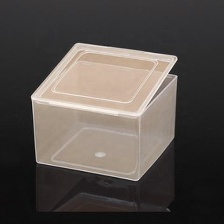plastic_box: (23, 35, 188, 187)
